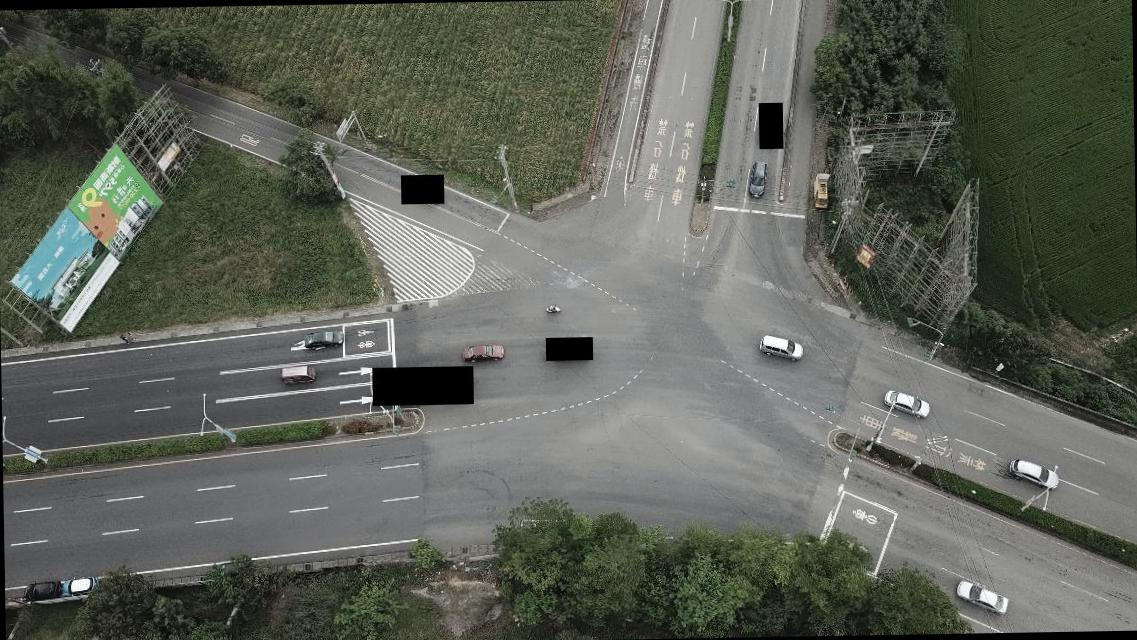vehicle: (956, 576, 1010, 614), (1006, 456, 1057, 491), (883, 388, 931, 418), (758, 333, 802, 363), (62, 575, 102, 598), (22, 578, 60, 602), (304, 328, 344, 350), (462, 343, 504, 363), (747, 160, 769, 197), (280, 365, 315, 385), (813, 180, 828, 210)
